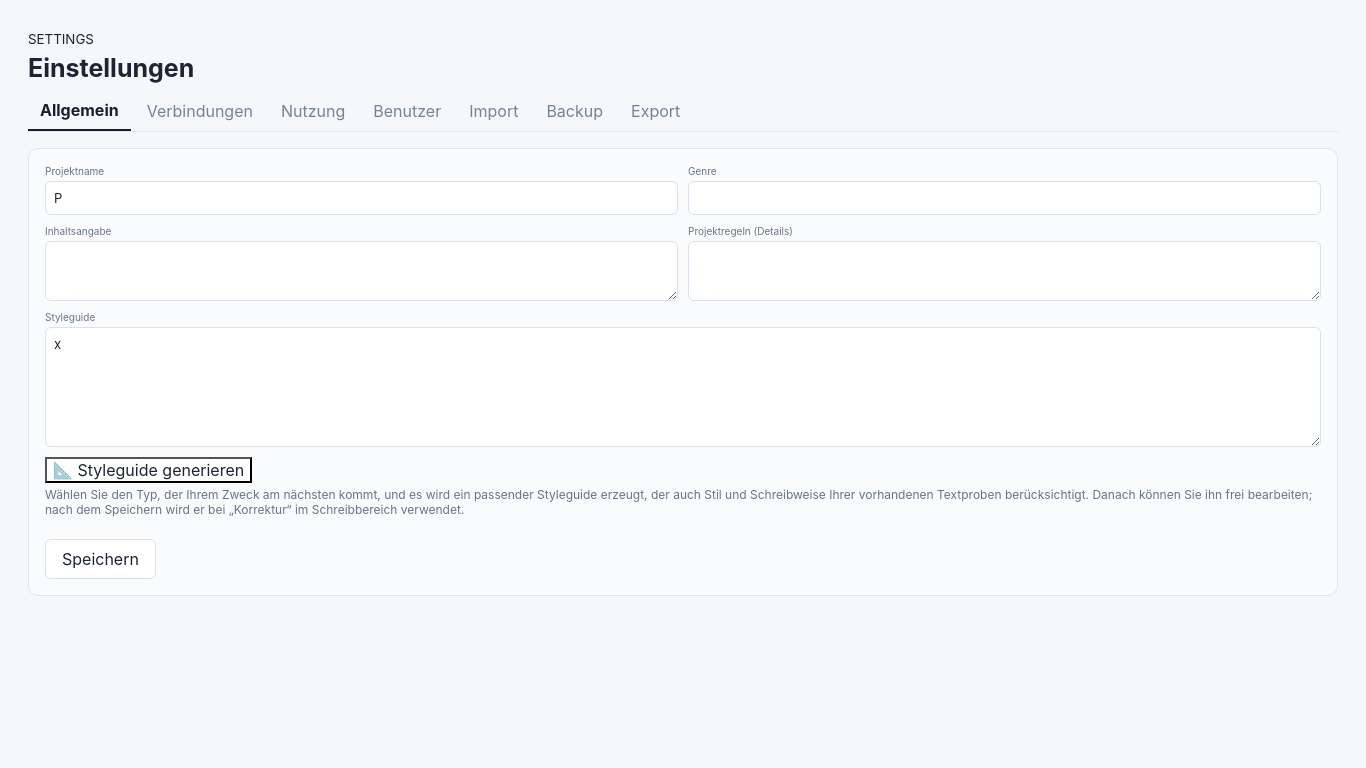
SettingsPanel under a non-Japanese language › renders translated tabs and the style-guide picker in de
Expected: the heading "Einstellungen" is shown, [28,53,194,83]
Expected: the button "Verbindungen" is shown, [135,91,265,131]
Click the button "📐 Styleguide generieren": click(149, 470) [45,457,252,483]
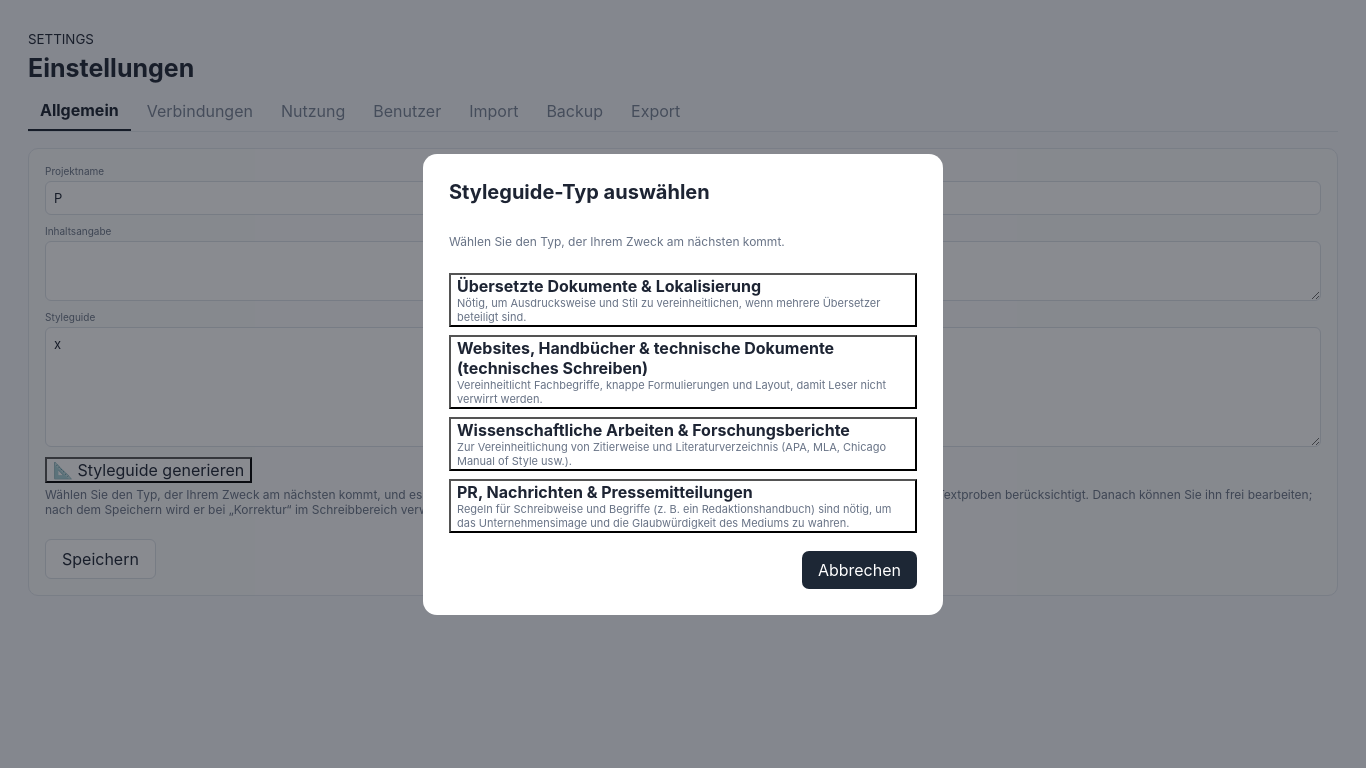
Expected: the heading "Styleguide-Typ auswählen" is shown, [449,180,710,204]
Expected: the text "PR, Nachrichten & Pressemitteilungen" is shown, [457,482,753,502]
